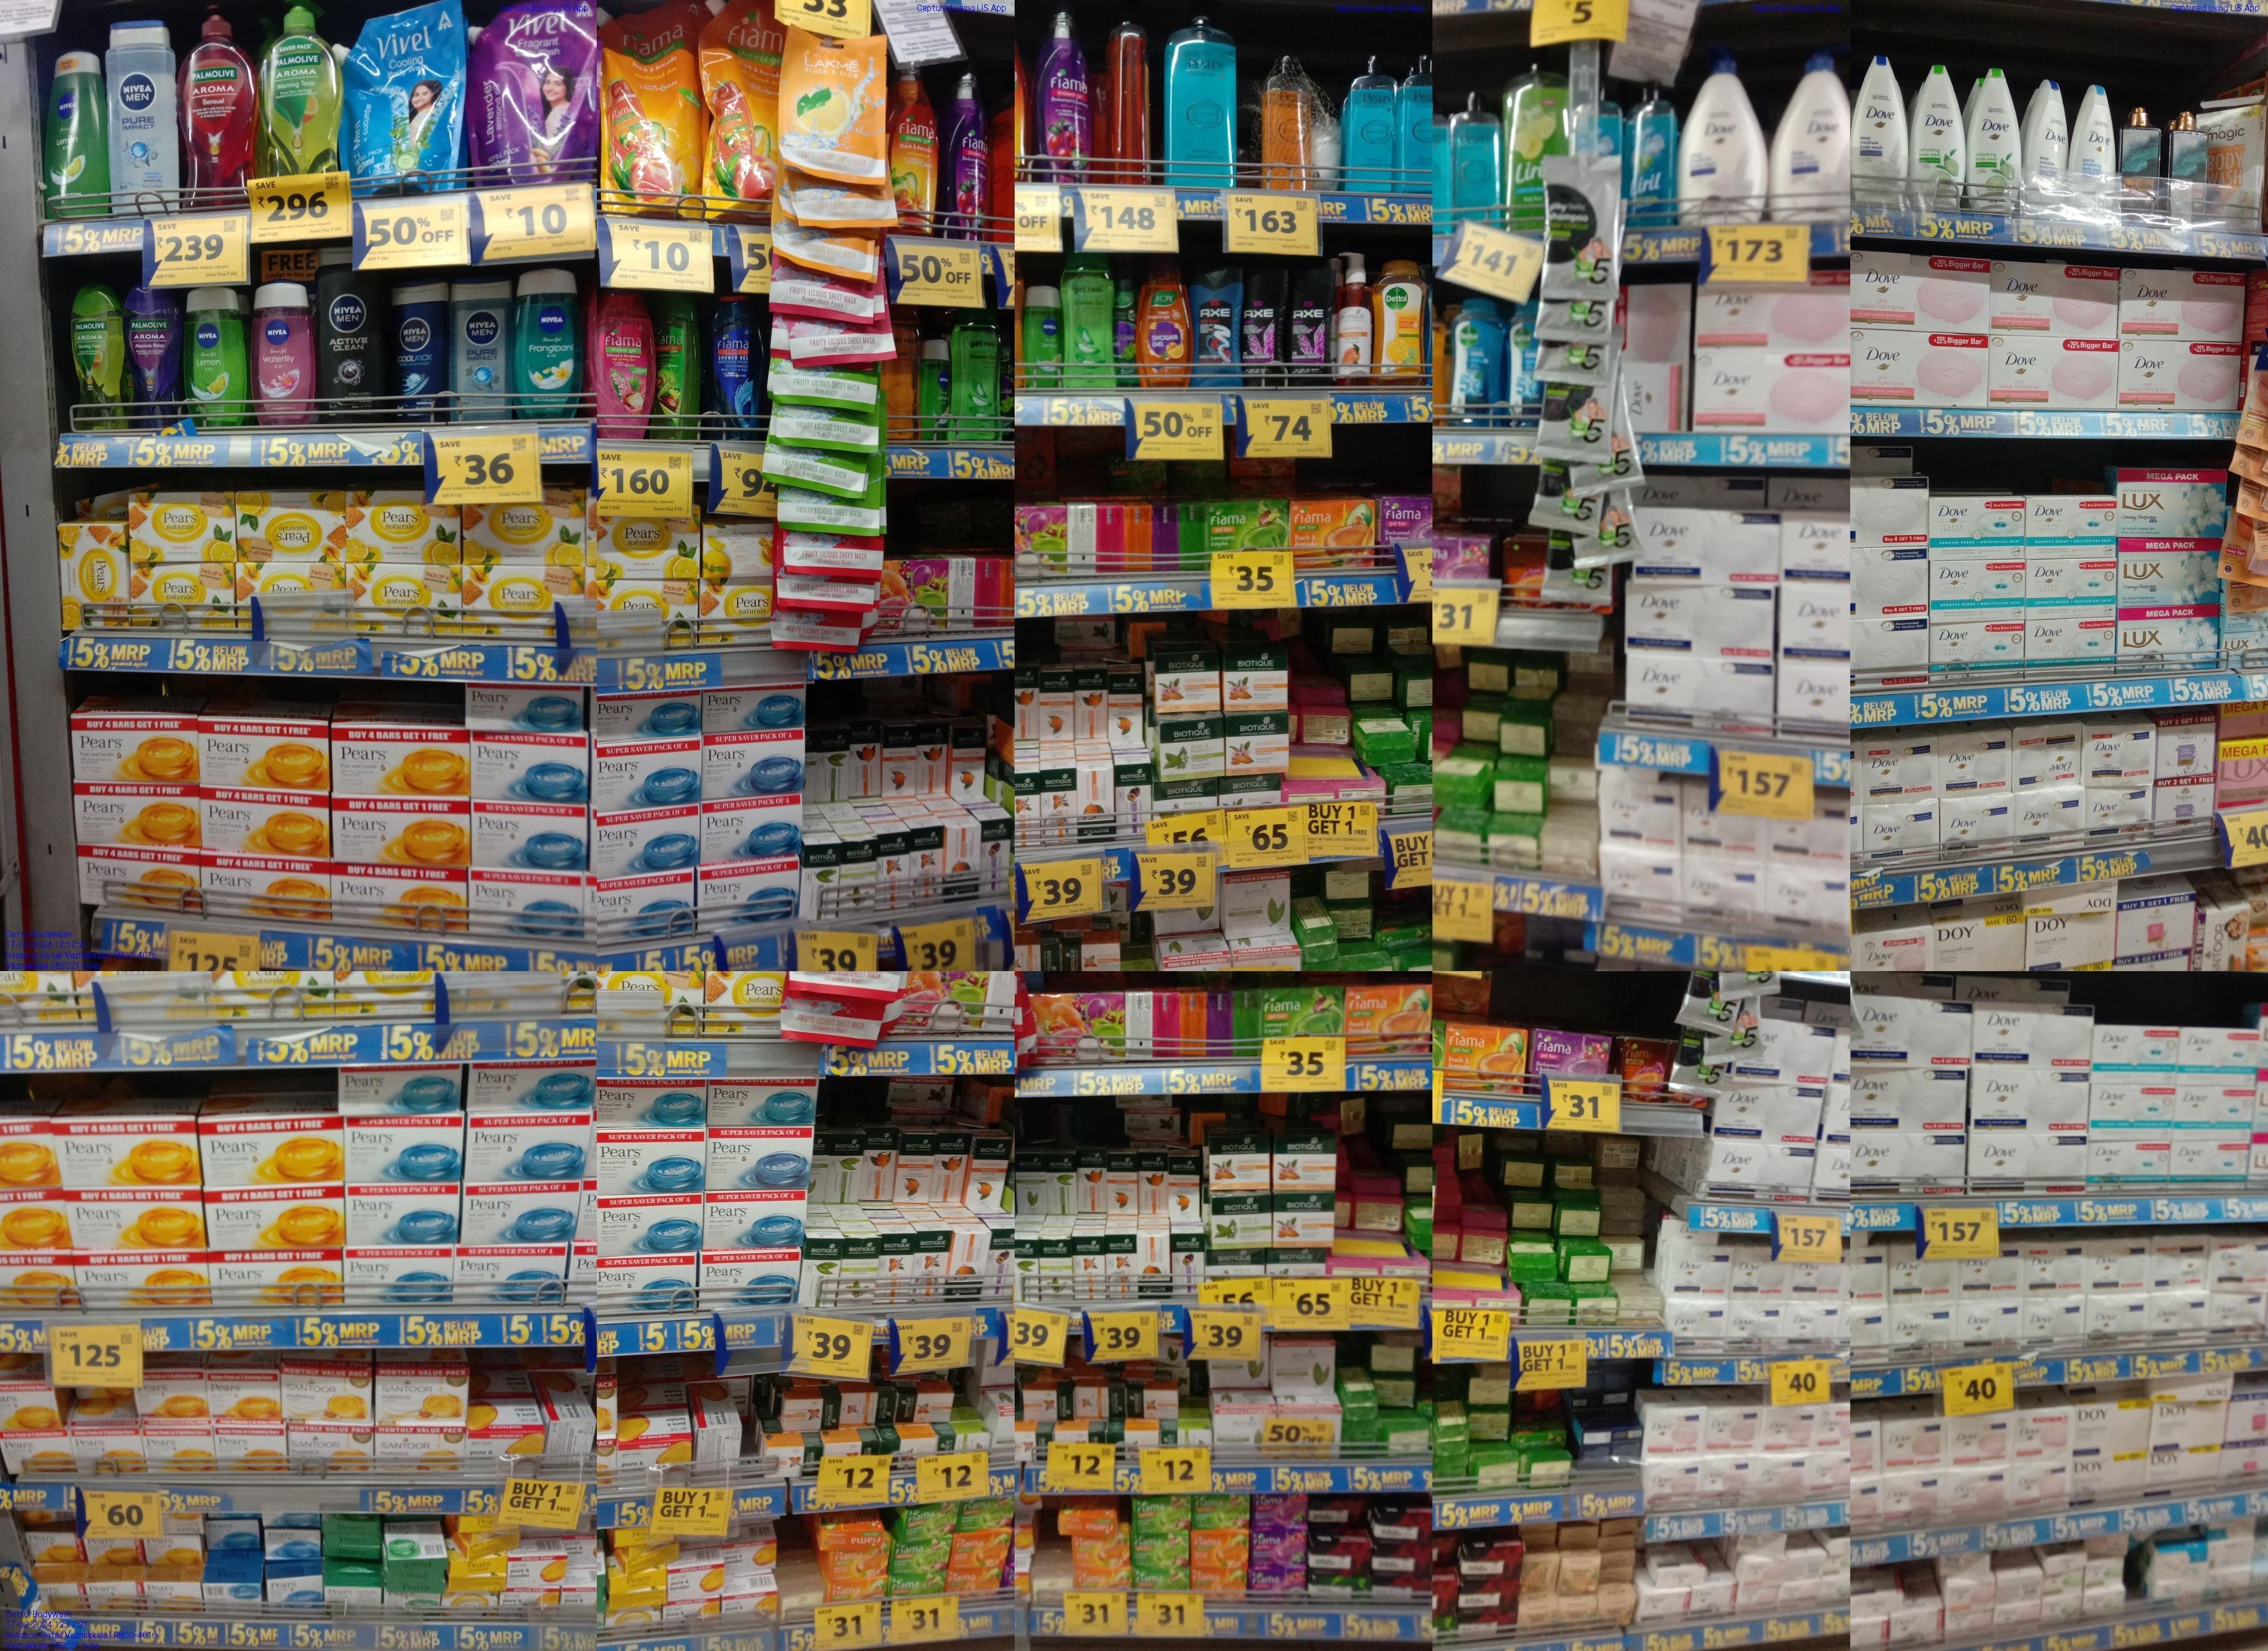Dettol_Bodywash_Cool: (1451, 298, 1506, 426)
Dettol_Bodywash_Refresh: (1373, 261, 1426, 386)
Dove_Deep_Moisture_Body_Wash_250ML: (1852, 55, 1909, 196), (2027, 79, 2069, 206)
Dove_Gentle_Exfoliating_Body_Wash_250ML: (2076, 86, 2120, 215)
Dove_Refreshing_Body_Wash_250ML: (1914, 62, 1967, 208), (1970, 67, 2021, 213)
Fiama_Shower_Gel_Patchouli_and_Macadamia_250ML: (597, 287, 655, 441)
Joy_Shower_Gel_Mandarin_and_Lemongrass_250ML: (1138, 254, 1194, 386)
Nivea_Shower_Gel_Frangipani_and_Oil_250ML: (518, 268, 585, 418)
Nivea_Shower_Gel_Lemon_and_Oil_250ML: (44, 51, 109, 213), (187, 287, 243, 426)
Nivea_Shower_Gel_Waterlily_and_Oil_250ML: (254, 278, 313, 425)
Palmolive_Aroma_Morning_Tonic_Shower_Gel_250ML: (69, 287, 122, 435)
Palmolive_Aroma_Relax_250ML: (125, 282, 185, 428)
